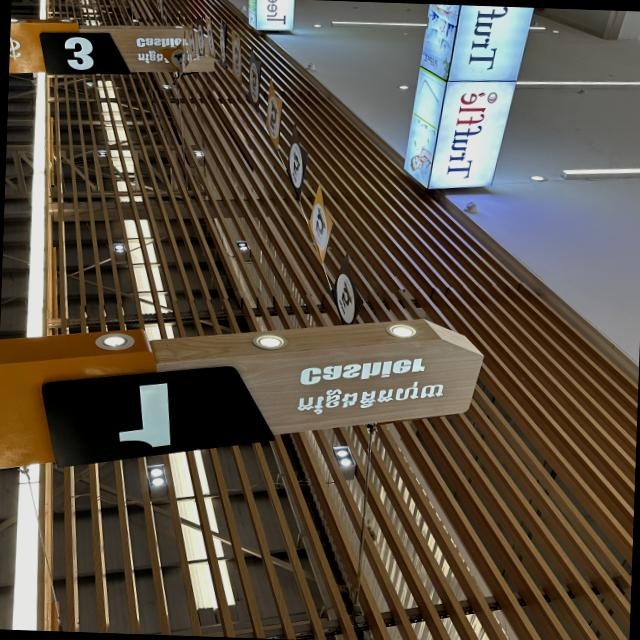Yolov11_80vkh: (288, 378, 446, 416)
